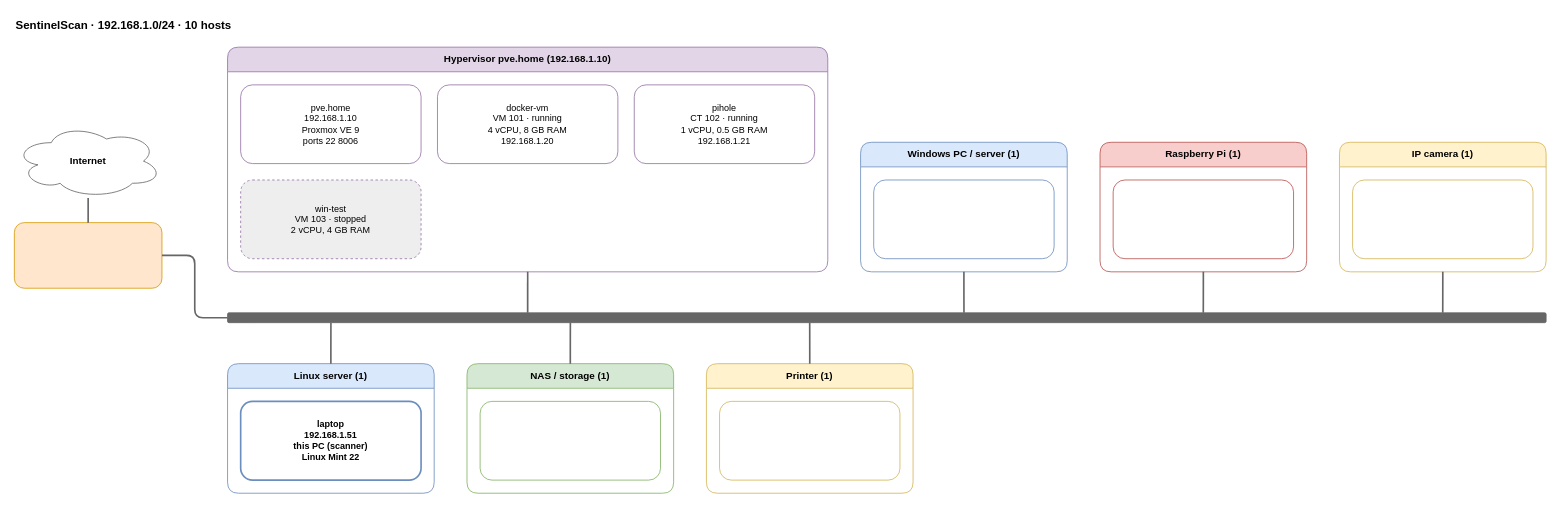
Some shapes in this 1560 by 508 pixel diagram are drawn without their labels. Here are the shapes that lost their labels. From the top down, the centre of each, then its label:
At [963,219]: "desktop-01 192.168.1.50 Windows 11 ports 135 445".
At [1203,219]: "homeassistant 192.168.1.70 Raspberry Pi Trading ports 22 8123".
At [1442,219]: "camera-door 192.168.1.80 Example Cameras ports 80 554".
At [88,255]: "Gateway 192.168.1.1 router.home Example Networks".
At [886,317]: "LAN 192.168.1.0/24".
At [570,440]: "nas.home 192.168.1.11 Example Storage ports 22 445 5000".
At [809,440]: "printer 192.168.1.60 Example Printers ports 80 631 9100".
